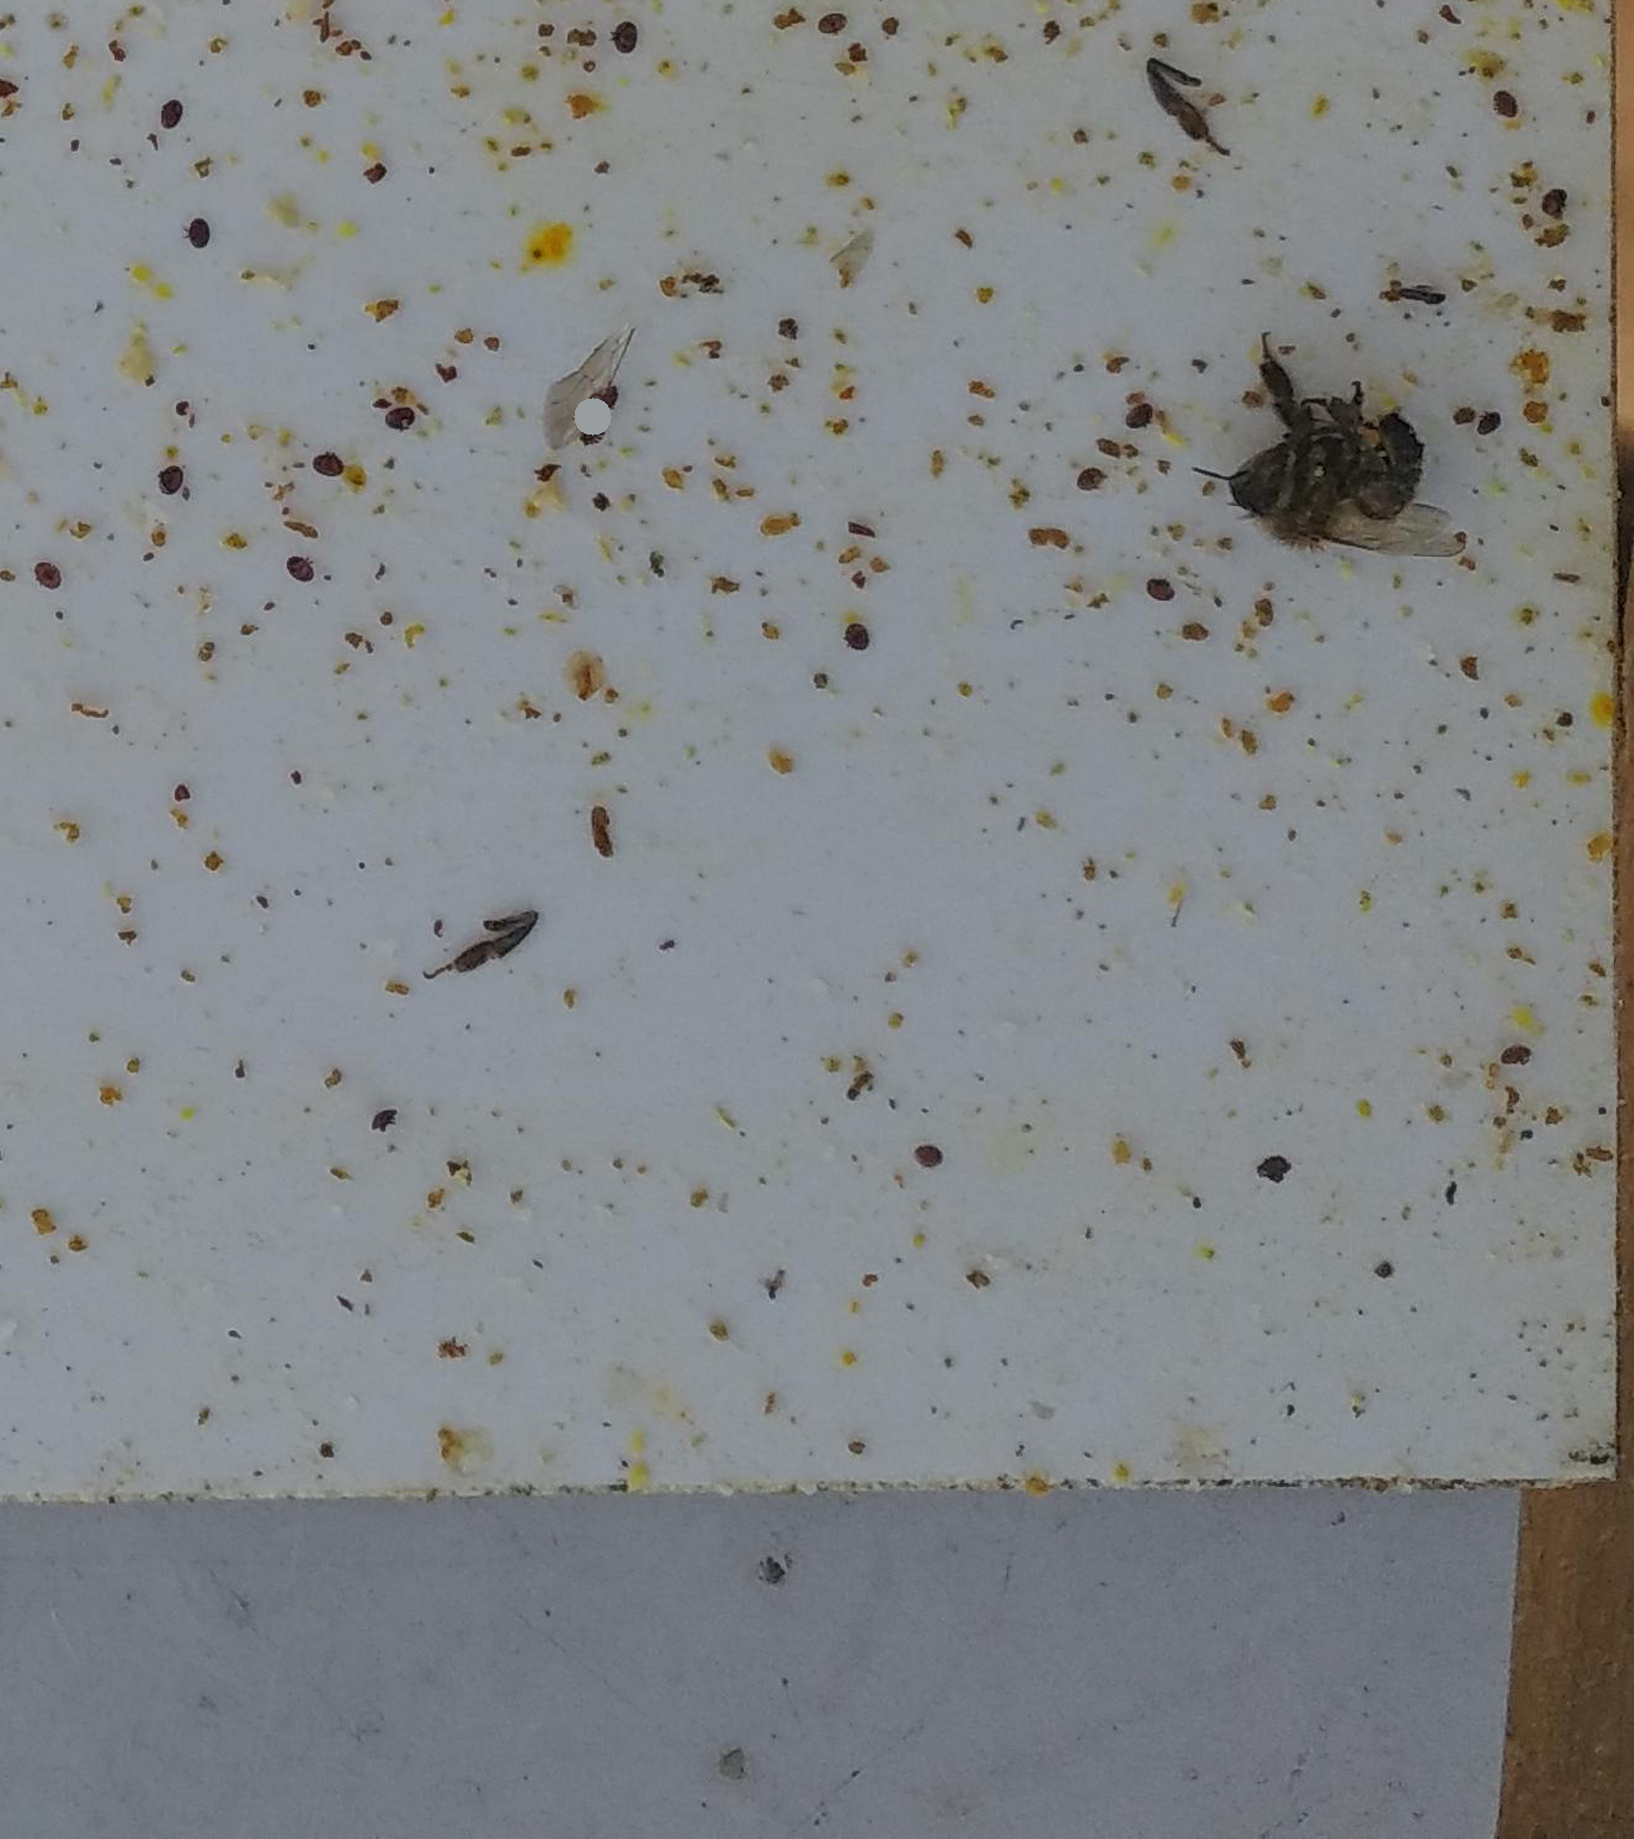Varroa: (1120, 401, 1151, 432), (588, 383, 618, 416), (1494, 1038, 1524, 1066), (153, 99, 183, 128), (363, 1102, 393, 1131), (43, 561, 65, 598), (839, 621, 867, 648), (185, 218, 213, 244), (1465, 405, 1492, 434), (1539, 186, 1568, 211), (1147, 577, 1175, 602), (170, 467, 189, 494), (614, 24, 631, 52), (320, 454, 341, 475), (1494, 99, 1513, 121), (300, 560, 315, 585), (825, 8, 845, 27), (916, 1150, 935, 1170), (393, 407, 413, 426), (1079, 472, 1099, 487), (584, 424, 601, 437)
